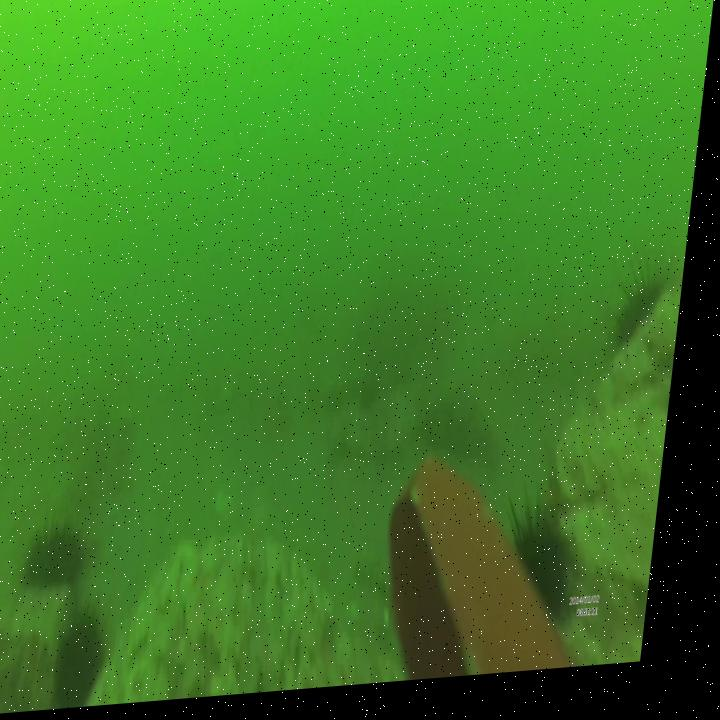echinus: (504, 504, 595, 638), (618, 255, 694, 363), (65, 610, 127, 711), (36, 526, 99, 598)
